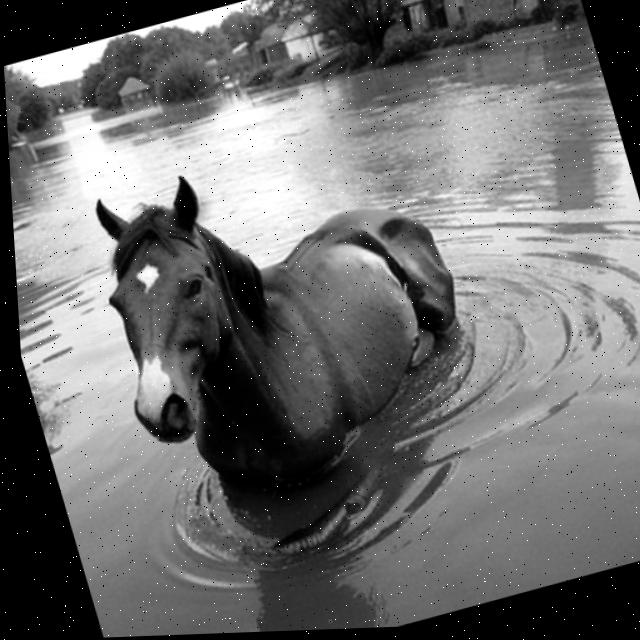horse: (60, 107, 521, 548)
